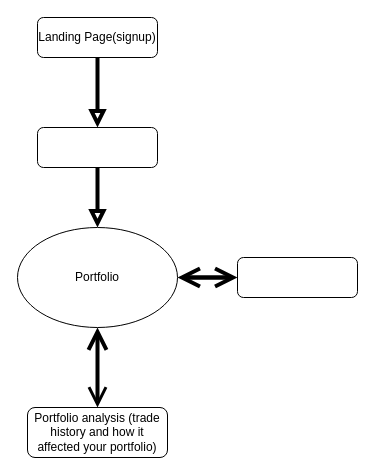
Image size: 375x475. Some labels were removed from this diagram. Here are the shapes that lost their labels. From the top down, the centre of each, then its label:
[97,147]: User Profile Created
[297,277]: Search an asset to buy/ and decide to purchase it
